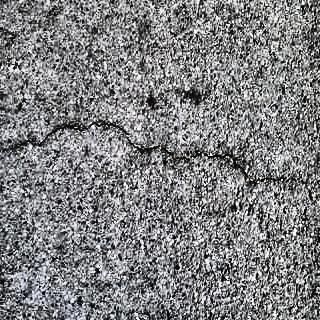crack: (133, 142, 320, 186), (5, 112, 142, 156)
